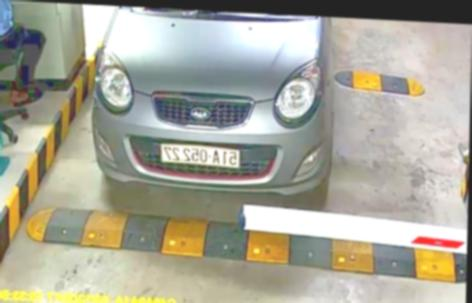License_Plate: (161, 143, 242, 168)
